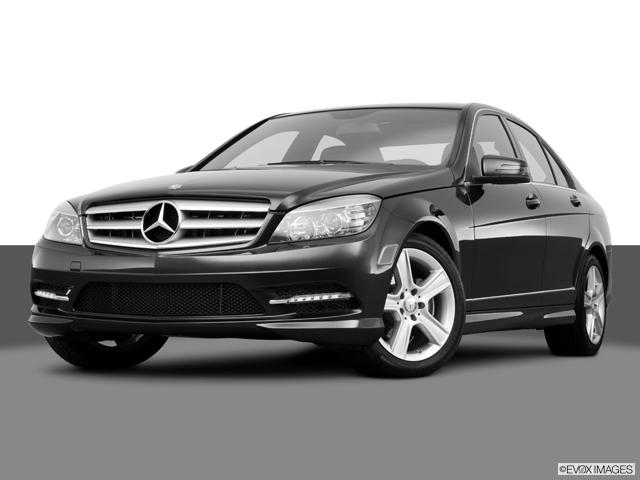car: (30, 103, 613, 380)
